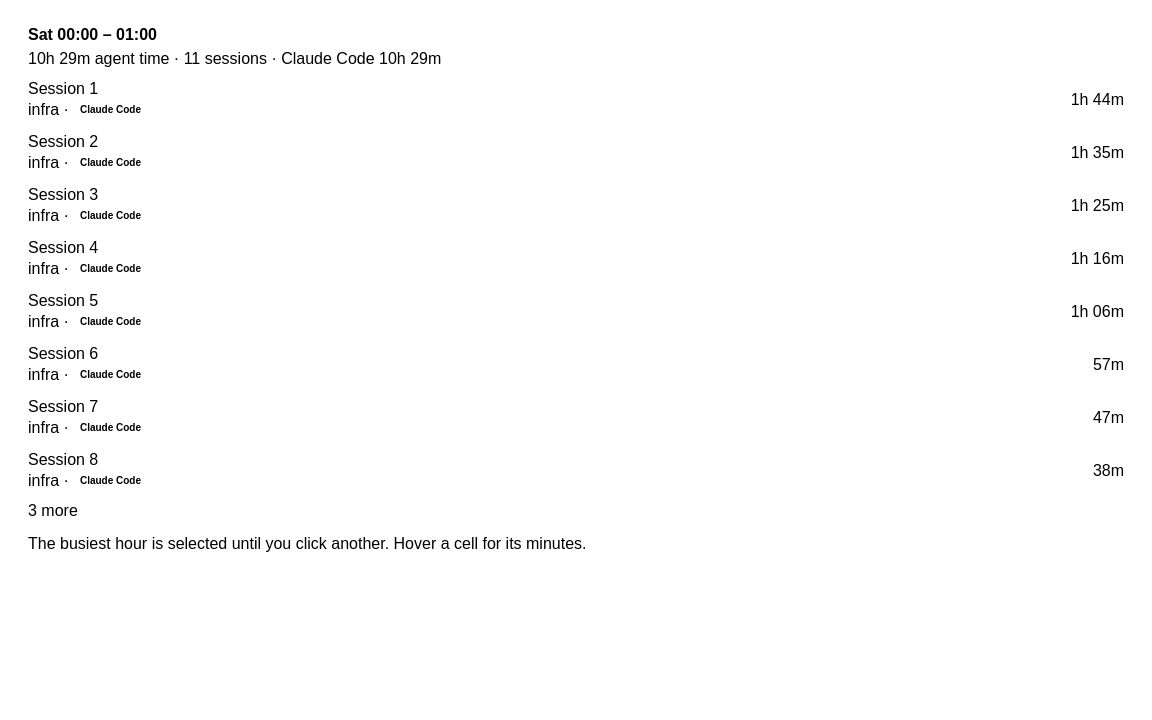
the hour card › lists the hour’s eight longest sessions, then “N more”, which shows the rest
Click the button "3 more": (53, 511) [28,502,78,520]
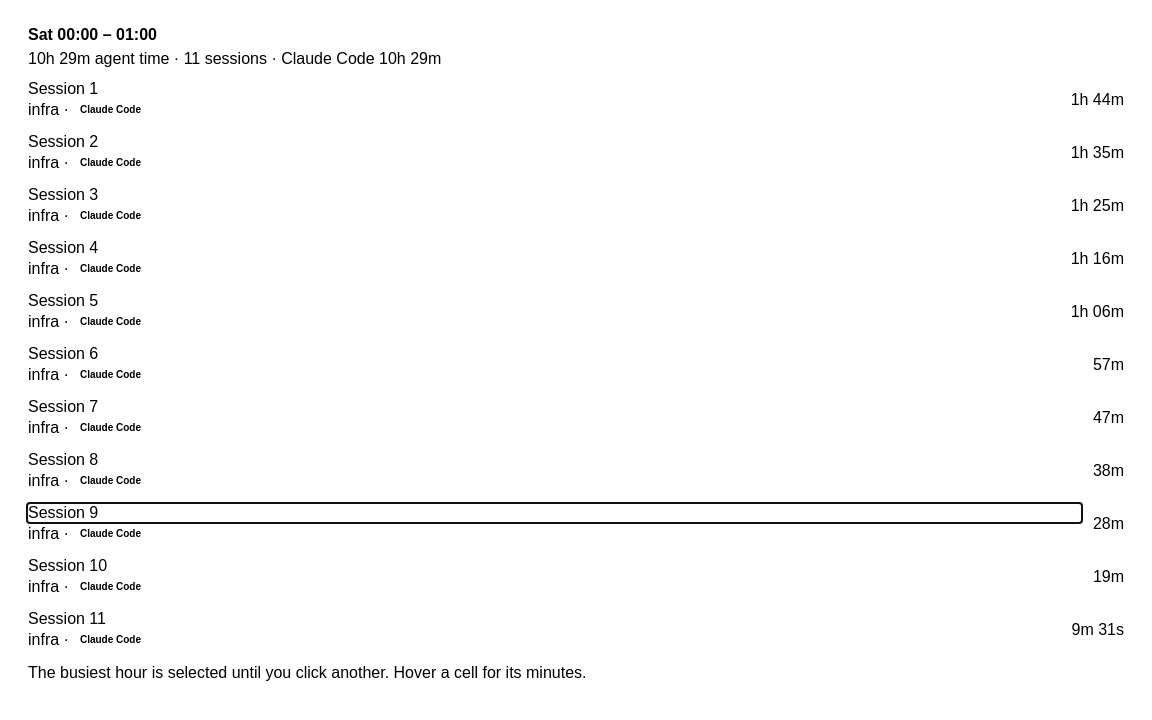
Expected: the button "more" is gone
